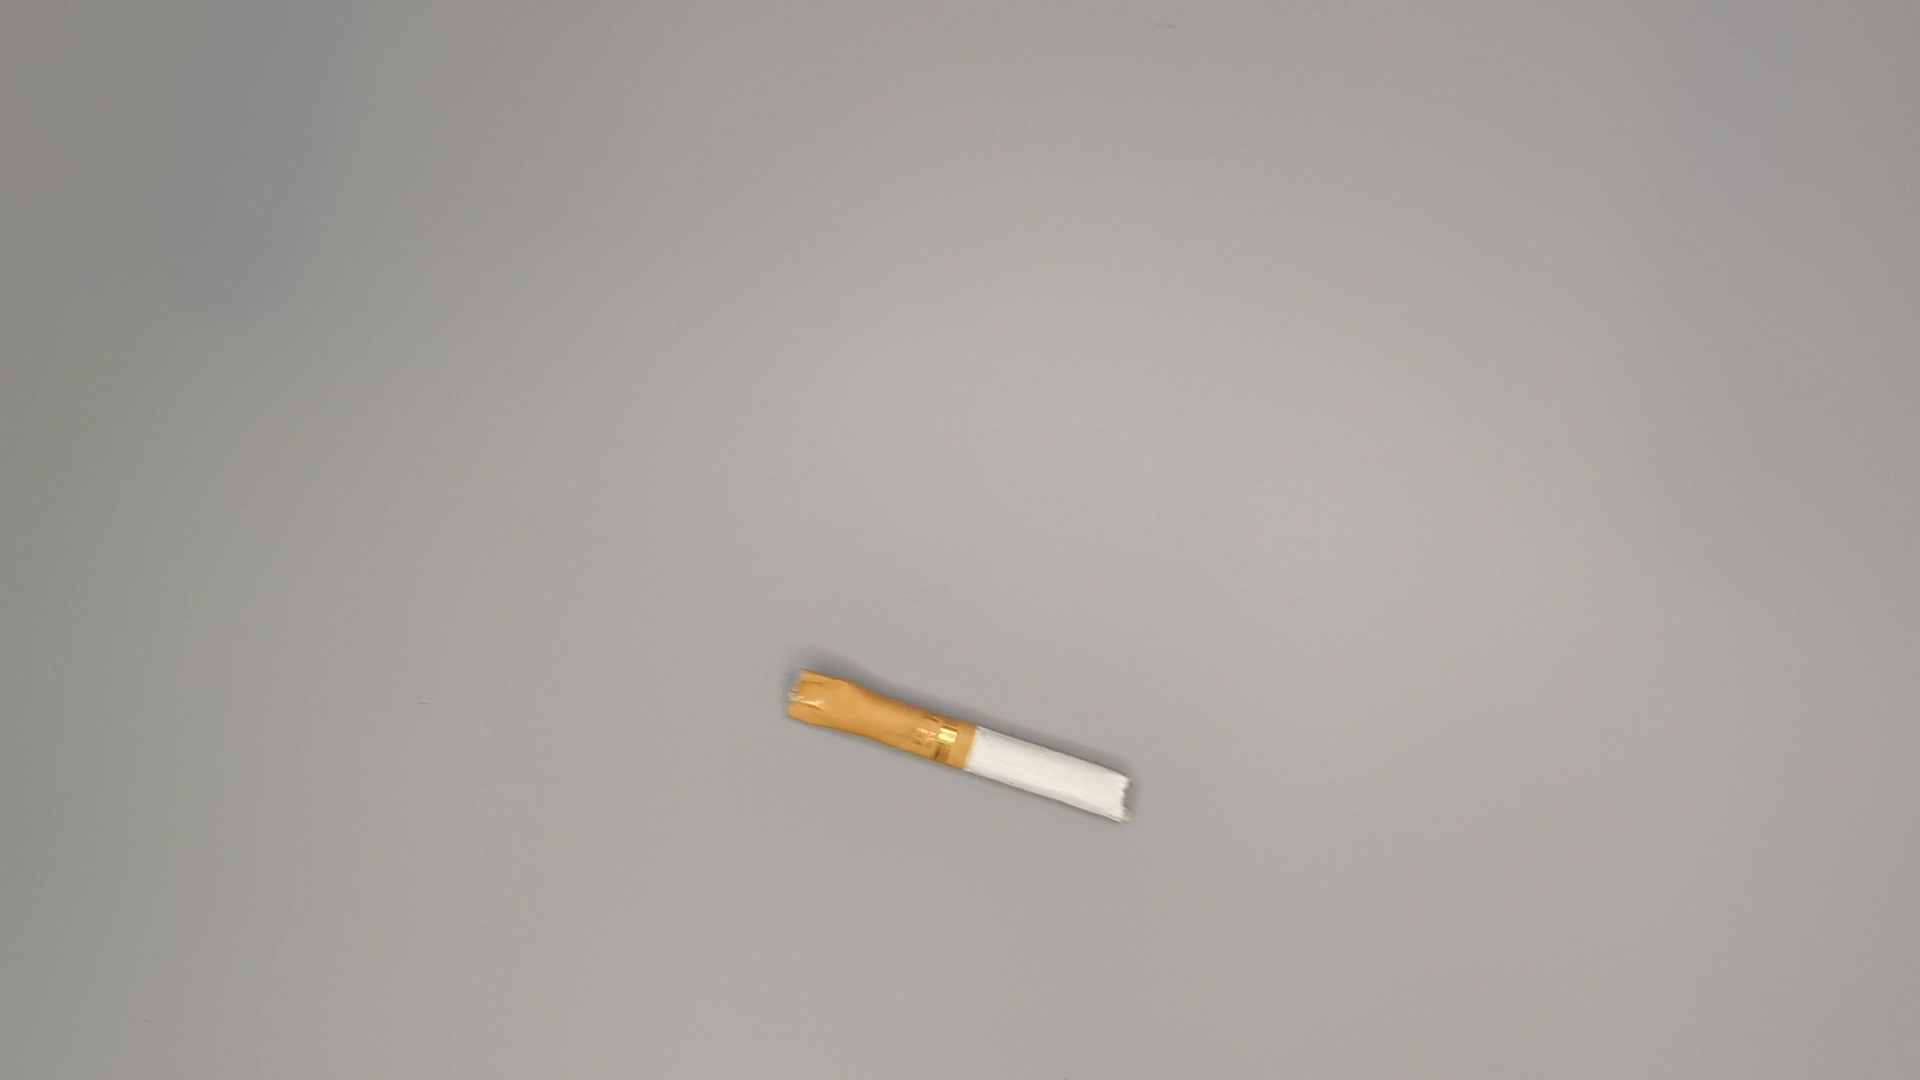cigarette: (775, 667, 1139, 827)
